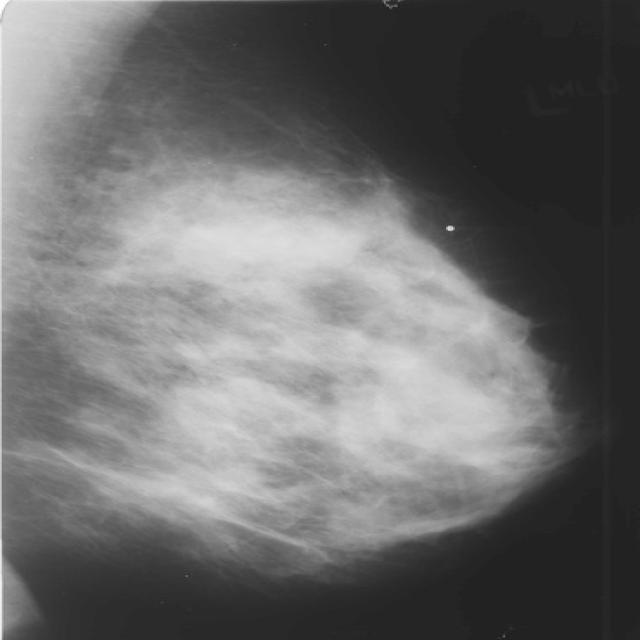tumour: (178, 211, 360, 280)
